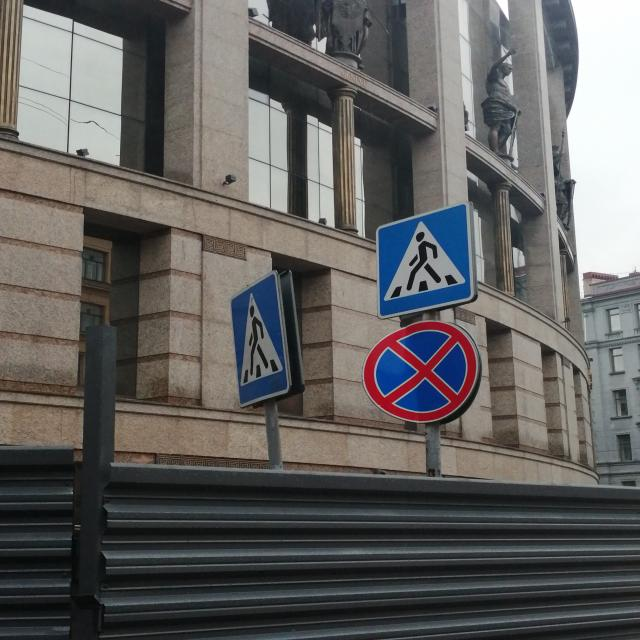road sign: (377, 203, 475, 318), (229, 271, 289, 408), (266, 399, 283, 469), (426, 422, 444, 478)
